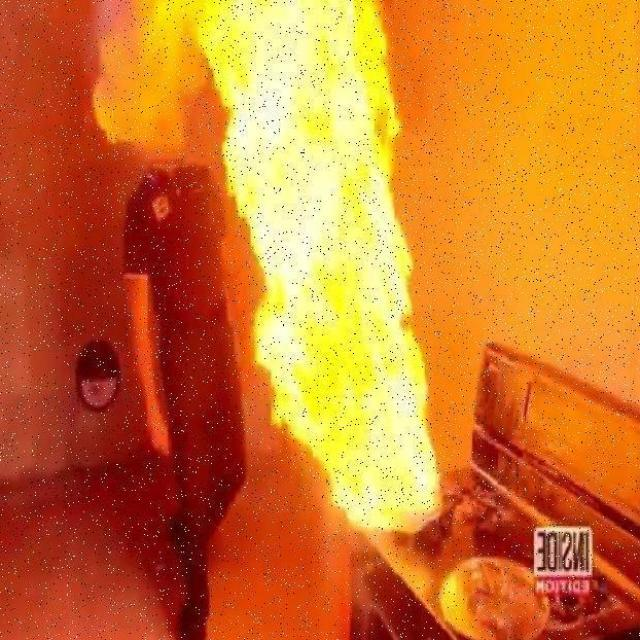smoke: (195, 0, 442, 521)
